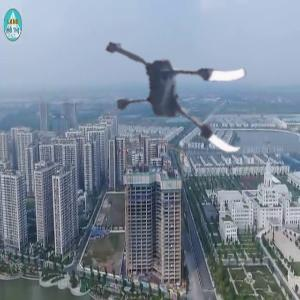drone: (96, 3, 267, 174)
